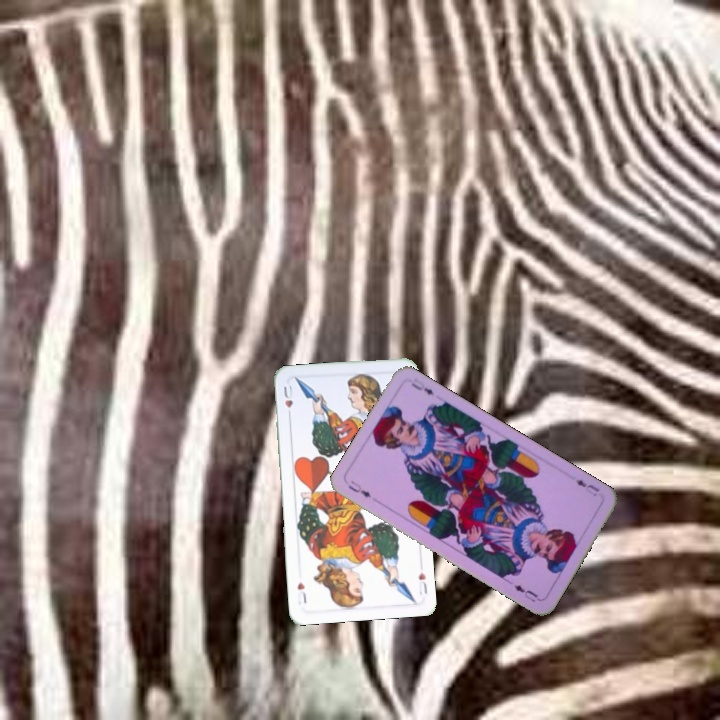EU: (344, 476, 374, 500), (571, 475, 602, 495)
HU: (280, 381, 295, 421), (414, 568, 430, 597)
